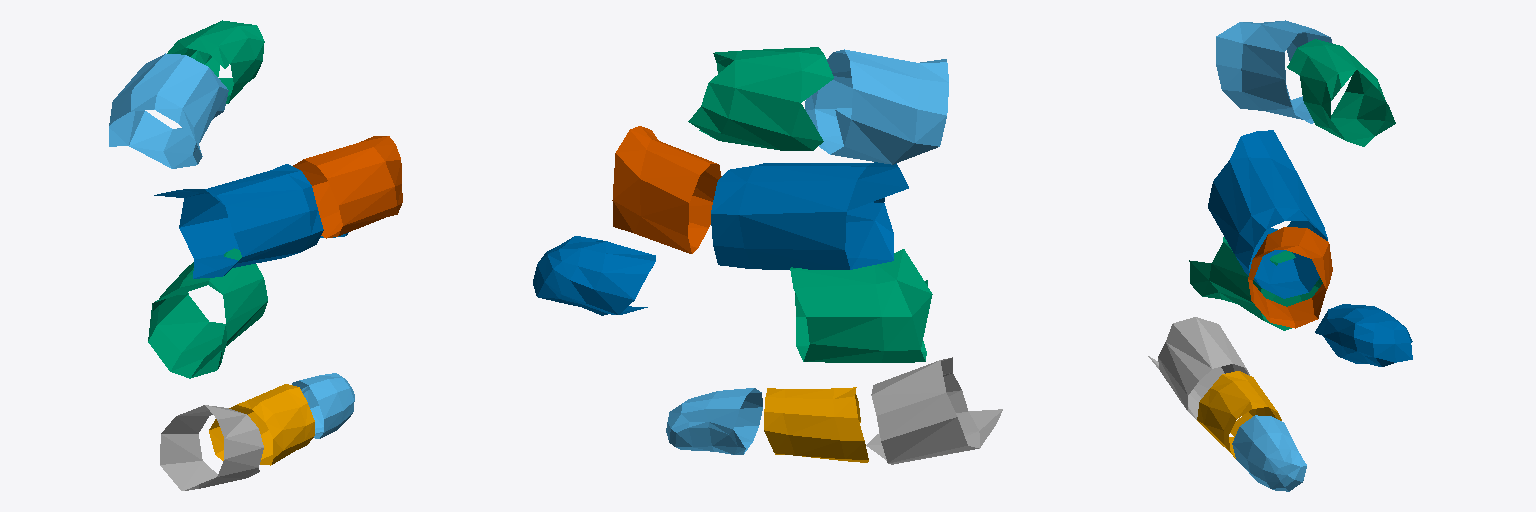
The robot description file, URDF, robot "mano_hand":
<?xml version='1.0' encoding='utf-8'?>
<robot name="mano_hand">
  <link name="hand">
    <inertial>
      <origin xyz="0 0 0" rpy="0 0 0" />
      <mass value="0.01" />
      <inertia ixx="1e-06" ixy="0" ixz="0" iyy="1e-06" iyz="0" izz="1e-06" />
    </inertial>
    <visual>
      <origin xyz="0 0 0" rpy="0 0 0" />
      <geometry>
        <mesh filename="meshes\hand.stl" />
      </geometry>
    </visual>
    <collision>
      <origin xyz="0 0 0" rpy="0 0 0" />
      <geometry>
        <mesh filename="meshes\hand.stl" />
      </geometry>
    </collision>
  </link>
  <link name="link_joint_1">
    <inertial>
      <origin xyz="0 0 0" rpy="0 0 0" />
      <mass value="0.01" />
      <inertia ixx="1e-06" ixy="0" ixz="0" iyy="1e-06" iyz="0" izz="1e-06" />
    </inertial>
    <visual>
      <origin xyz="0 0 0" rpy="0 0 0" />
      <geometry>
        <mesh filename="meshes\link_joint_1.stl" />
      </geometry>
    </visual>
    <collision>
      <origin xyz="0 0 0" rpy="0 0 0" />
      <geometry>
        <mesh filename="meshes\link_joint_1.stl" />
      </geometry>
    </collision>
  </link>
  <link name="link_joint_2">
    <inertial>
      <origin xyz="0 0 0" rpy="0 0 0" />
      <mass value="0.01" />
      <inertia ixx="1e-06" ixy="0" ixz="0" iyy="1e-06" iyz="0" izz="1e-06" />
    </inertial>
    <visual>
      <origin xyz="0 0 0" rpy="0 0 0" />
      <geometry>
        <mesh filename="meshes\link_joint_2.stl" />
      </geometry>
    </visual>
    <collision>
      <origin xyz="0 0 0" rpy="0 0 0" />
      <geometry>
        <mesh filename="meshes\link_joint_2.stl" />
      </geometry>
    </collision>
  </link>
  <link name="link_joint_3">
    <inertial>
      <origin xyz="0 0 0" rpy="0 0 0" />
      <mass value="0.01" />
      <inertia ixx="1e-06" ixy="0" ixz="0" iyy="1e-06" iyz="0" izz="1e-06" />
    </inertial>
    <visual>
      <origin xyz="0 0 0" rpy="0 0 0" />
      <geometry>
        <mesh filename="meshes\link_joint_3.stl" />
      </geometry>
    </visual>
    <collision>
      <origin xyz="0 0 0" rpy="0 0 0" />
      <geometry>
        <mesh filename="meshes\link_joint_3.stl" />
      </geometry>
    </collision>
  </link>
  <link name="link_joint_4">
    <inertial>
      <origin xyz="0 0 0" rpy="0 0 0" />
      <mass value="0.01" />
      <inertia ixx="1e-06" ixy="0" ixz="0" iyy="1e-06" iyz="0" izz="1e-06" />
    </inertial>
    <visual>
      <origin xyz="0 0 0" rpy="0 0 0" />
      <geometry>
        <mesh filename="meshes\link_joint_4.stl" />
      </geometry>
    </visual>
    <collision>
      <origin xyz="0 0 0" rpy="0 0 0" />
      <geometry>
        <mesh filename="meshes\link_joint_4.stl" />
      </geometry>
    </collision>
  </link>
  <link name="link_joint_5">
    <inertial>
      <origin xyz="0 0 0" rpy="0 0 0" />
      <mass value="0.01" />
      <inertia ixx="1e-06" ixy="0" ixz="0" iyy="1e-06" iyz="0" izz="1e-06" />
    </inertial>
    <visual>
      <origin xyz="0 0 0" rpy="0 0 0" />
      <geometry>
        <mesh filename="meshes\link_joint_5.stl" />
      </geometry>
    </visual>
    <collision>
      <origin xyz="0 0 0" rpy="0 0 0" />
      <geometry>
        <mesh filename="meshes\link_joint_5.stl" />
      </geometry>
    </collision>
  </link>
  <link name="link_joint_6">
    <inertial>
      <origin xyz="0 0 0" rpy="0 0 0" />
      <mass value="0.01" />
      <inertia ixx="1e-06" ixy="0" ixz="0" iyy="1e-06" iyz="0" izz="1e-06" />
    </inertial>
    <visual>
      <origin xyz="0 0 0" rpy="0 0 0" />
      <geometry>
        <mesh filename="meshes\link_joint_6.stl" />
      </geometry>
    </visual>
    <collision>
      <origin xyz="0 0 0" rpy="0 0 0" />
      <geometry>
        <mesh filename="meshes\link_joint_6.stl" />
      </geometry>
    </collision>
  </link>
  <link name="link_joint_7">
    <inertial>
      <origin xyz="0 0 0" rpy="0 0 0" />
      <mass value="0.01" />
      <inertia ixx="1e-06" ixy="0" ixz="0" iyy="1e-06" iyz="0" izz="1e-06" />
    </inertial>
    <visual>
      <origin xyz="0 0 0" rpy="0 0 0" />
      <geometry>
        <mesh filename="meshes\link_joint_7.stl" />
      </geometry>
    </visual>
    <collision>
      <origin xyz="0 0 0" rpy="0 0 0" />
      <geometry>
        <mesh filename="meshes\link_joint_7.stl" />
      </geometry>
    </collision>
  </link>
  <link name="link_joint_8">
    <inertial>
      <origin xyz="0 0 0" rpy="0 0 0" />
      <mass value="0.01" />
      <inertia ixx="1e-06" ixy="0" ixz="0" iyy="1e-06" iyz="0" izz="1e-06" />
    </inertial>
    <visual>
      <origin xyz="0 0 0" rpy="0 0 0" />
      <geometry>
        <mesh filename="meshes\link_joint_8.stl" />
      </geometry>
    </visual>
    <collision>
      <origin xyz="0 0 0" rpy="0 0 0" />
      <geometry>
        <mesh filename="meshes\link_joint_8.stl" />
      </geometry>
    </collision>
  </link>
  <link name="link_joint_9">
    <inertial>
      <origin xyz="0 0 0" rpy="0 0 0" />
      <mass value="0.01" />
      <inertia ixx="1e-06" ixy="0" ixz="0" iyy="1e-06" iyz="0" izz="1e-06" />
    </inertial>
    <visual>
      <origin xyz="0 0 0" rpy="0 0 0" />
      <geometry>
        <mesh filename="meshes\link_joint_9.stl" />
      </geometry>
    </visual>
    <collision>
      <origin xyz="0 0 0" rpy="0 0 0" />
      <geometry>
        <mesh filename="meshes\link_joint_9.stl" />
      </geometry>
    </collision>
  </link>
  <link name="link_joint_10">
    <inertial>
      <origin xyz="0 0 0" rpy="0 0 0" />
      <mass value="0.01" />
      <inertia ixx="1e-06" ixy="0" ixz="0" iyy="1e-06" iyz="0" izz="1e-06" />
    </inertial>
    <visual>
      <origin xyz="0 0 0" rpy="0 0 0" />
      <geometry>
        <mesh filename="meshes\link_joint_10.stl" />
      </geometry>
    </visual>
    <collision>
      <origin xyz="0 0 0" rpy="0 0 0" />
      <geometry>
        <mesh filename="meshes\link_joint_10.stl" />
      </geometry>
    </collision>
  </link>
  <link name="link_joint_11">
    <inertial>
      <origin xyz="0 0 0" rpy="0 0 0" />
      <mass value="0.01" />
      <inertia ixx="1e-06" ixy="0" ixz="0" iyy="1e-06" iyz="0" izz="1e-06" />
    </inertial>
    <visual>
      <origin xyz="0 0 0" rpy="0 0 0" />
      <geometry>
        <mesh filename="meshes\link_joint_11.stl" />
      </geometry>
    </visual>
    <collision>
      <origin xyz="0 0 0" rpy="0 0 0" />
      <geometry>
        <mesh filename="meshes\link_joint_11.stl" />
      </geometry>
    </collision>
  </link>
  <link name="link_joint_12">
    <inertial>
      <origin xyz="0 0 0" rpy="0 0 0" />
      <mass value="0.01" />
      <inertia ixx="1e-06" ixy="0" ixz="0" iyy="1e-06" iyz="0" izz="1e-06" />
    </inertial>
    <visual>
      <origin xyz="0 0 0" rpy="0 0 0" />
      <geometry>
        <mesh filename="meshes\link_joint_12.stl" />
      </geometry>
    </visual>
    <collision>
      <origin xyz="0 0 0" rpy="0 0 0" />
      <geometry>
        <mesh filename="meshes\link_joint_12.stl" />
      </geometry>
    </collision>
  </link>
  <link name="link_joint_13">
    <inertial>
      <origin xyz="0 0 0" rpy="0 0 0" />
      <mass value="0.01" />
      <inertia ixx="1e-06" ixy="0" ixz="0" iyy="1e-06" iyz="0" izz="1e-06" />
    </inertial>
    <visual>
      <origin xyz="0 0 0" rpy="0 0 0" />
      <geometry>
        <mesh filename="meshes\link_joint_13.stl" />
      </geometry>
    </visual>
    <collision>
      <origin xyz="0 0 0" rpy="0 0 0" />
      <geometry>
        <mesh filename="meshes\link_joint_13.stl" />
      </geometry>
    </collision>
  </link>
  <link name="link_joint_14">
    <inertial>
      <origin xyz="0 0 0" rpy="0 0 0" />
      <mass value="0.01" />
      <inertia ixx="1e-06" ixy="0" ixz="0" iyy="1e-06" iyz="0" izz="1e-06" />
    </inertial>
    <visual>
      <origin xyz="0 0 0" rpy="0 0 0" />
      <geometry>
        <mesh filename="meshes\link_joint_14.stl" />
      </geometry>
    </visual>
    <collision>
      <origin xyz="0 0 0" rpy="0 0 0" />
      <geometry>
        <mesh filename="meshes\link_joint_14.stl" />
      </geometry>
    </collision>
  </link>
  <link name="link_joint_15">
    <inertial>
      <origin xyz="0 0 0" rpy="0 0 0" />
      <mass value="0.01" />
      <inertia ixx="1e-06" ixy="0" ixz="0" iyy="1e-06" iyz="0" izz="1e-06" />
    </inertial>
    <visual>
      <origin xyz="0 0 0" rpy="0 0 0" />
      <geometry>
        <mesh filename="meshes\link_joint_15.stl" />
      </geometry>
    </visual>
    <collision>
      <origin xyz="0 0 0" rpy="0 0 0" />
      <geometry>
        <mesh filename="meshes\link_joint_15.stl" />
      </geometry>
    </collision>
  </link>
  <joint name="joint_hand_to_link_joint_1" type="revolute">
    <parent link="hand" />
    <child link="link_joint_1" />
    <origin xyz="0 0 0" rpy="0 0 0" />
    <axis xyz="0 0 1" />
  <limit lower="-0.1" upper="0.1" effort="50" velocity="0.1" /></joint>
  <joint name="joint_hand_to_link_joint_2" type="revolute">
    <parent link="link_joint_1" />
    <child link="link_joint_2" />
    <origin xyz="0 0 0" rpy="0 0 0" />
    <axis xyz="0 0 1" />
  <limit lower="-0.1" upper="0.1" effort="50" velocity="0.1" /></joint>
  <joint name="joint_hand_to_link_joint_3" type="revolute">
    <parent link="link_joint_2" />
    <child link="link_joint_3" />
    <origin xyz="0 0 0" rpy="0 0 0" />
    <axis xyz="0 0 1" />
  <limit lower="-0.1" upper="0.1" effort="50" velocity="0.1" /></joint>
  <joint name="joint_hand_to_link_joint_4" type="revolute">
    <parent link="hand" />
    <child link="link_joint_4" />
    <origin xyz="0 0 0" rpy="0 0 0" />
    <axis xyz="0 0 1" />
  <limit lower="-0.1" upper="0.1" effort="50" velocity="0.1" /></joint>
  <joint name="joint_hand_to_link_joint_5" type="revolute">
    <parent link="link_joint_4" />
    <child link="link_joint_5" />
    <origin xyz="0 0 0" rpy="0 0 0" />
    <axis xyz="0 0 1" />
  <limit lower="-0.1" upper="0.1" effort="50" velocity="0.1" /></joint>
  <joint name="joint_hand_to_link_joint_6" type="revolute">
    <parent link="link_joint_5" />
    <child link="link_joint_6" />
    <origin xyz="0 0 0" rpy="0 0 0" />
    <axis xyz="0 0 1" />
  <limit lower="-0.1" upper="0.1" effort="50" velocity="0.1" /></joint>
  <joint name="joint_hand_to_link_joint_7" type="revolute">
    <parent link="hand" />
    <child link="link_joint_7" />
    <origin xyz="0 0 0" rpy="0 0 0" />
    <axis xyz="0 0 1" />
  <limit lower="-0.1" upper="0.1" effort="50" velocity="0.1" /></joint>
  <joint name="joint_hand_to_link_joint_8" type="revolute">
    <parent link="link_joint_7" />
    <child link="link_joint_8" />
    <origin xyz="0 0 0" rpy="0 0 0" />
    <axis xyz="0 0 1" />
  <limit lower="-0.1" upper="0.1" effort="50" velocity="0.1" /></joint>
  <joint name="joint_hand_to_link_joint_9" type="revolute">
    <parent link="link_joint_8" />
    <child link="link_joint_9" />
    <origin xyz="0 0 0" rpy="0 0 0" />
    <axis xyz="0 0 1" />
  <limit lower="-0.1" upper="0.1" effort="50" velocity="0.1" /></joint>
  <joint name="joint_hand_to_link_joint_10" type="revolute">
    <parent link="hand" />
    <child link="link_joint_10" />
    <origin xyz="0 0 0" rpy="0 0 0" />
    <axis xyz="0 0 1" />
  <limit lower="-0.1" upper="0.1" effort="50" velocity="0.1" /></joint>
  <joint name="joint_hand_to_link_joint_11" type="revolute">
    <parent link="link_joint_10" />
    <child link="link_joint_11" />
    <origin xyz="0 0 0" rpy="0 0 0" />
    <axis xyz="0 0 1" />
  <limit lower="-0.1" upper="0.1" effort="50" velocity="0.1" /></joint>
  <joint name="joint_hand_to_link_joint_12" type="revolute">
    <parent link="link_joint_11"  />
    <child link="link_joint_12" />
    <origin xyz="0 0 0" rpy="0 0 0" />
    <axis xyz="0 0 1" />
  <limit lower="-0.1" upper="0.1" effort="50" velocity="0.1" /></joint>
  <joint name="joint_hand_to_link_joint_13" type="revolute">
    <parent link="hand" />
    <child link="link_joint_13" />
    <origin xyz="0 0 0" rpy="0 0 0" />
    <axis xyz="0 0 1" />
  <limit lower="-0.1" upper="0.1" effort="50" velocity="0.1" /></joint>
  <joint name="joint_hand_to_link_joint_14" type="revolute">
    <parent link="link_joint_13" />
    <child link="link_joint_14" />
    <origin xyz="0 0 0" rpy="0 0 0" />
    <axis xyz="0 0 1" />
  <limit lower="-0.1" upper="0.1" effort="50" velocity="0.1" /></joint>
  <joint name="joint_hand_to_link_joint_15" type="revolute">
    <parent link="link_joint_14" />
    <child link="link_joint_15" />
    <origin xyz="0 0 0" rpy="0 0 0" />
    <axis xyz="0 0 1" />
  <limit lower="-0.1" upper="0.1" effort="50" velocity="0.1" /></joint>
</robot>

--- Render facts (derived) ---
Views: 3 orthographic renders of the robot side by side, from view 1: azimuth 30°, elevation 25°; view 2: azimuth 150°, elevation 25°; view 3: azimuth 270°, elevation 25°.
Model mano_hand with 16 links and 15 joints (15 revolute), rooted at hand, posed every joint at zero.
Visible links, largest first — view 1: link_joint_4, link_joint_1, link_joint_10, link_joint_5, link_joint_7, link_joint_8, link_joint_2, link_joint_9; view 2: link_joint_4, link_joint_1, link_joint_10, link_joint_2, link_joint_5, link_joint_7, link_joint_12, link_joint_8, link_joint_9; view 3: link_joint_4, link_joint_1, link_joint_2, link_joint_7, link_joint_12, link_joint_9, link_joint_5, link_joint_8, link_joint_10.
Link boxes in pixels (left/top/right/bottom): link_joint_4: left=154, top=164, right=323, bottom=278; link_joint_1: left=109, top=53, right=228, bottom=168; link_joint_10: left=148, top=248, right=267, bottom=378; link_joint_5: left=293, top=136, right=402, bottom=238; link_joint_7: left=160, top=405, right=263, bottom=490; link_joint_8: left=209, top=384, right=314, bottom=465; link_joint_2: left=167, top=20, right=264, bottom=103; link_joint_9: left=292, top=373, right=354, bottom=438; link_joint_4: left=711, top=162, right=908, bottom=269; link_joint_1: left=805, top=49, right=948, bottom=164; link_joint_10: left=790, top=249, right=932, bottom=362; link_joint_2: left=688, top=47, right=833, bottom=150; link_joint_5: left=612, top=126, right=721, bottom=253; link_joint_7: left=866, top=357, right=1002, bottom=464; link_joint_12: left=533, top=236, right=655, bottom=315; link_joint_8: left=764, top=387, right=868, bottom=462; link_joint_9: left=666, top=388, right=762, bottom=454; link_joint_4: left=1208, top=130, right=1327, bottom=298; link_joint_1: left=1216, top=20, right=1332, bottom=123; link_joint_2: left=1287, top=39, right=1395, bottom=146; link_joint_7: left=1148, top=317, right=1249, bottom=419; link_joint_12: left=1315, top=304, right=1412, bottom=366; link_joint_9: left=1232, top=415, right=1306, bottom=491; link_joint_5: left=1248, top=227, right=1332, bottom=328; link_joint_8: left=1197, top=371, right=1281, bottom=458; link_joint_10: left=1189, top=237, right=1322, bottom=330.
Bounding box of the posed robot: 0.0795 × 0.0596 × 0.0966 m (x, y, z).
9 mesh visuals loaded from 16 distinct referenced files (9 binary STL); not drawn: 7 (reference not matched to a file when rendering).
